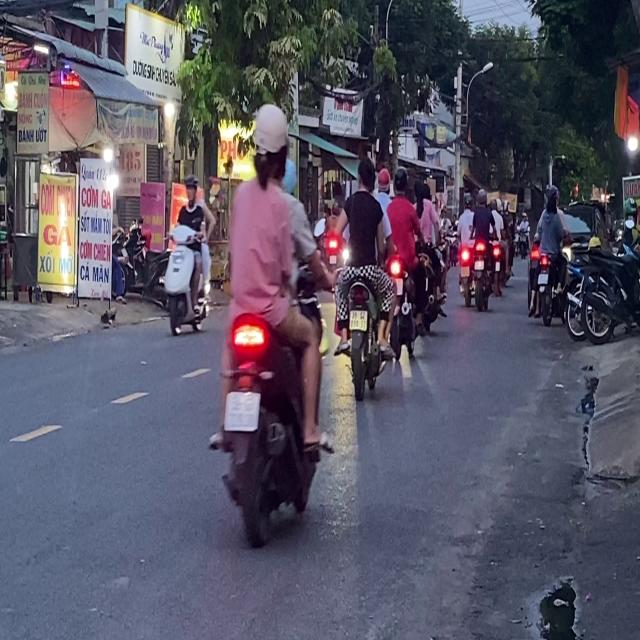helmet: (250, 102, 290, 184), (183, 172, 198, 203)
licenseplate: (208, 100, 332, 546), (332, 153, 393, 398), (162, 171, 212, 336), (382, 164, 422, 360)
motorcyclist: (355, 154, 375, 191), (392, 165, 408, 198)
nohelmet: (225, 392, 259, 430), (349, 310, 367, 330)
